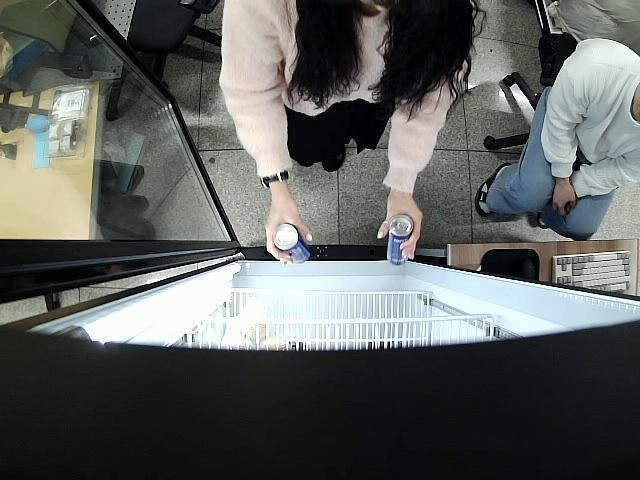16_hot6: (272, 223, 311, 264), (388, 213, 412, 264)
